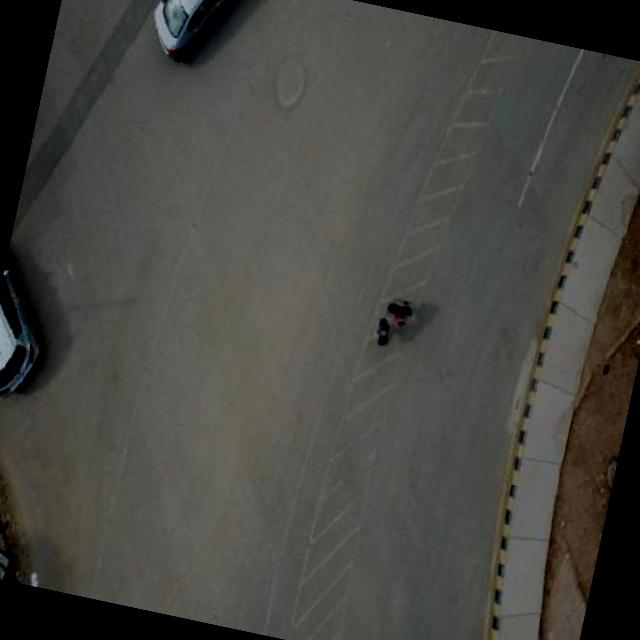Person: (371, 314, 394, 348), (386, 299, 413, 326)
